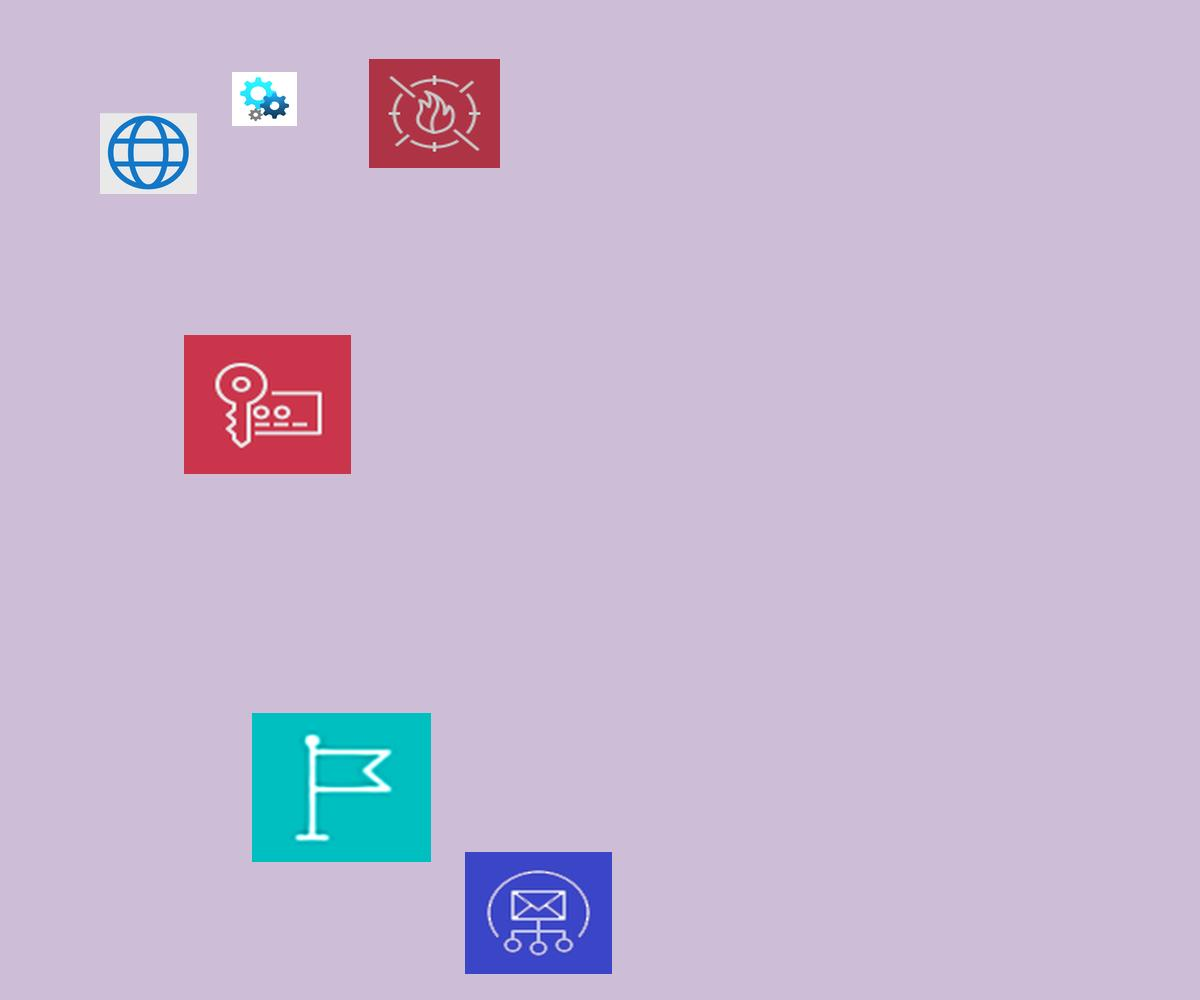AWS-Key-Management-Service: (184, 335, 351, 474)
AWS-Region: (252, 713, 431, 862)
AWS-Simple-Email-Service: (465, 852, 612, 974)
AWS-WAF: (369, 59, 500, 168)
Azure_api: (232, 72, 297, 126)
Azure_http: (100, 113, 197, 194)
